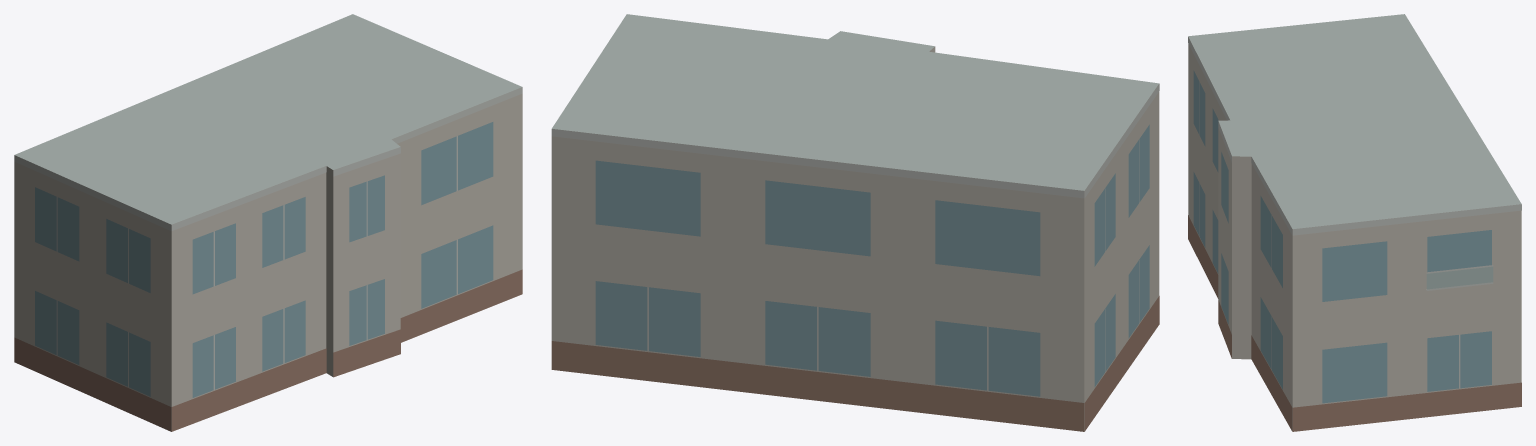
File: survey-upis-32624077.glb
3 views of the same model, side by side, from view 1: azimuth 30°, elevation 25°; view 2: azimuth 150°, elevation 25°; view 3: azimuth 270°, elevation 25° (orthographic). The views are drawn at different scales.
Visible parts, largest first — view 1: survey-upis-32624077.tmp; view 2: survey-upis-32624077.tmp; view 3: survey-upis-32624077.tmp.
Boxes of the visible parts, <box> form: survey-upis-32624077.tmp: <box>14,14,522,431</box>; survey-upis-32624077.tmp: <box>551,14,1159,431</box>; survey-upis-32624077.tmp: <box>1188,14,1521,431</box>.
Bounding box in the file's own units: 17.55 × 7.7 × 11.5.
